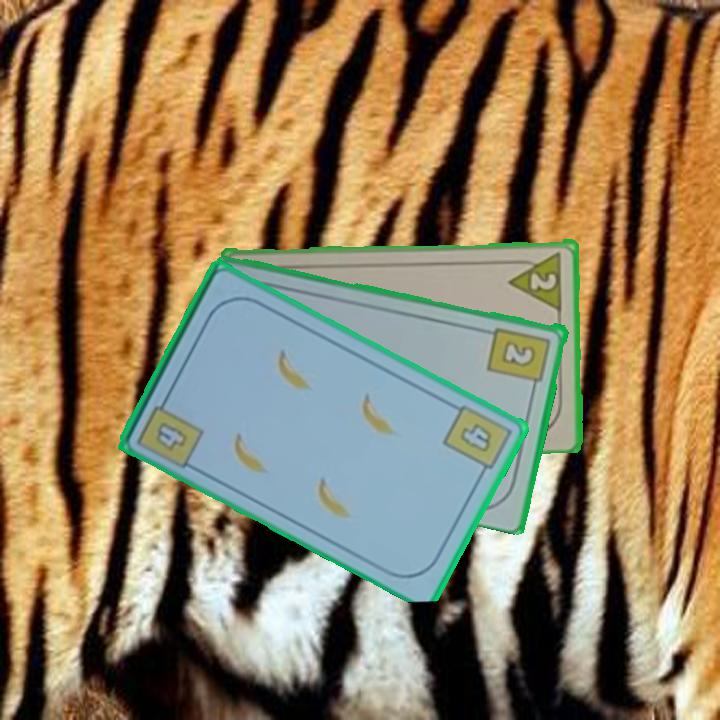2b: (485, 323, 554, 394)
2p: (505, 247, 566, 312)
4b: (439, 401, 515, 481), (152, 418, 191, 453)
